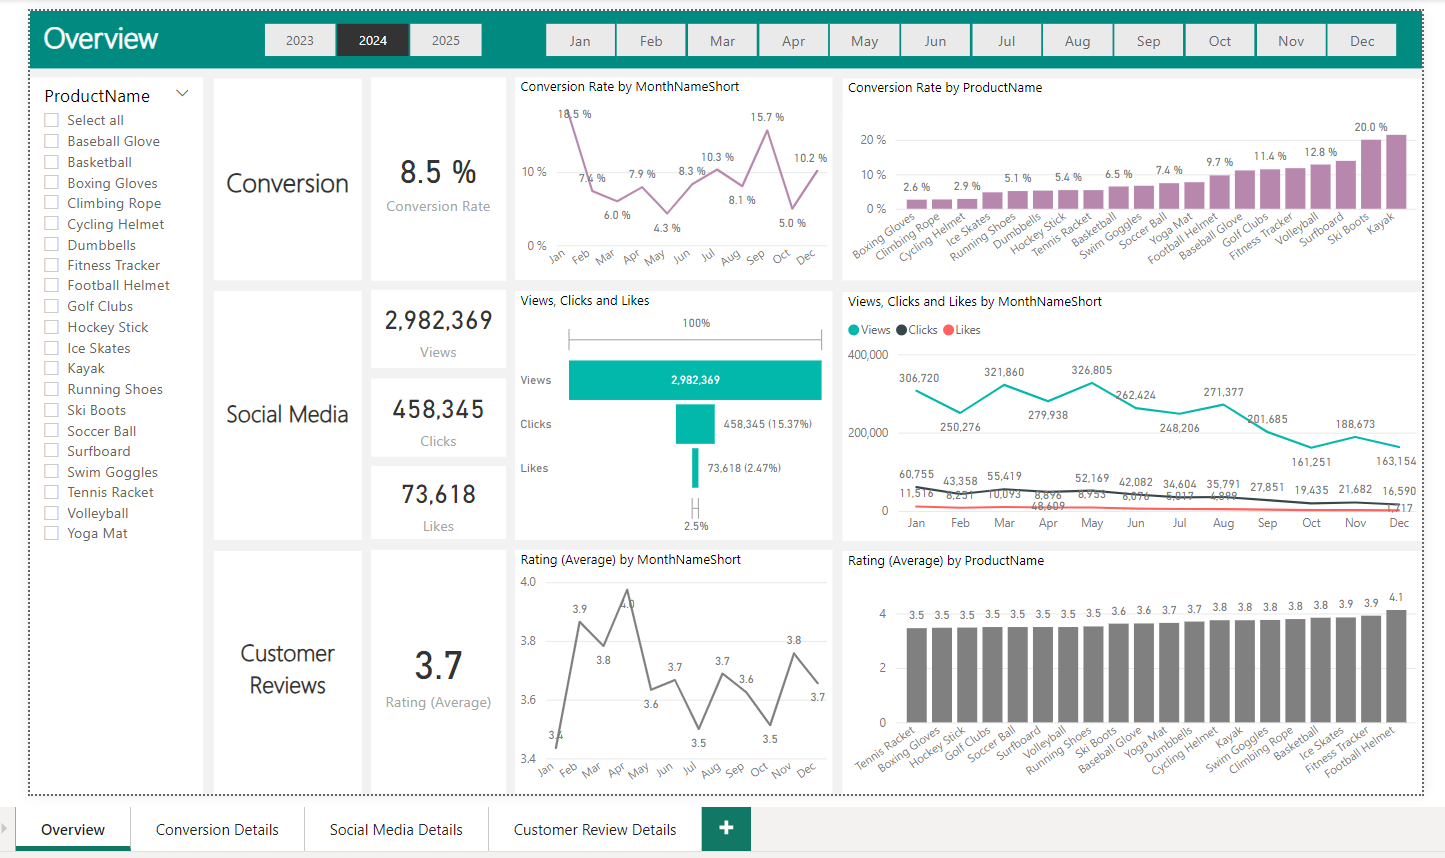

What the dashboard file says about the page in this screenshot:
{"tool":"powerbi","page":{"name":"Overview","canvas":[1280,720],"ordinal":0},"visuals":[{"type":"textbox","box":[0,0,1280,52.6],"z":0},{"type":"slicer","fields":{"Values":["dim_products.ProductName"]},"box":[0,61.1,159,659.1],"z":1000},{"type":"card","fields":{"Values":["_Calculations.Conversion Rate"]},"box":[313.4,61,123.9,186.8],"z":2000},{"type":"card","fields":{"Values":["_Calculations.Rating (Average)"]},"box":[313.4,495.5,123.9,224],"z":3000},{"type":"lineChart","fields":{"Y":["_Calculations.Conversion Rate"],"Category":["Calendar.MonthNameShort"]},"box":[446.4,60.9,292.3,186.7],"z":4000},{"type":"columnChart","fields":{"Category":["dim_products.ProductName"],"Y":["_Calculations.Conversion Rate"]},"box":[747.2,62.4,525.8,185.9],"z":5000},{"type":"slicer","fields":{"Values":["Calendar.Year"]},"box":[189.4,4.6,249.5,43.7],"z":6000},{"type":"slicer","fields":{"Values":["Calendar.MonthNameShort"]},"box":[448,4.6,832.3,43.7],"z":7000},{"type":"lineChart","fields":{"Y":["_Calculations.Views","_Calculations.Clicks","_Calculations.Likes"],"Category":["Calendar.MonthNameShort"]},"box":[747.2,258,525.8,228.7],"z":8000},{"type":"lineChart","fields":{"Category":["Calendar.MonthNameShort"],"Y":["_Calculations.Rating (Average)"]},"box":[446.4,495.3,292.3,224],"z":9000},{"type":"columnChart","fields":{"Category":["dim_products.ProductName"],"Y":["_Calculations.Rating (Average)"]},"box":[747.2,496.5,533.2,223.8],"z":10000},{"type":"funnel","fields":{"Y":["_Calculations.Views","_Calculations.Clicks","_Calculations.Likes"]},"box":[446.5,257.1,292.1,229.2],"z":11000},{"type":"card","fields":{"Values":["_Calculations.Views"]},"box":[313.4,256.7,123.8,71.9],"z":12000},{"type":"textbox","box":[168.8,62.4,135.7,185.9],"z":13000},{"type":"textbox","box":[168.8,258,135.7,228.7],"z":14000},{"type":"textbox","box":[168.8,496.5,135.7,223.8],"z":15000},{"type":"card","fields":{"Values":["_Calculations.Clicks"]},"box":[313.4,337.8,123.8,71.9],"z":16000},{"type":"card","fields":{"Values":["_Calculations.Likes"]},"box":[313.4,418.8,123.8,67.4],"z":17000}]}

Visuals, with their boxes on the page's 1280x720 design canvas (x1, y1, x2, y2). These are canvas units, not pixel positions in the 1445x858 screenshot, which may show the page scaled, cropped or inside an application window:
textbox: 0/0/1280/53
slicer - dim_products.ProductName: 0/61/159/720
card - _Calculations.Conversion Rate: 313/61/437/248
card - _Calculations.Rating (Average): 313/496/437/720
lineChart - _Calculations.Conversion Rate x Calendar.MonthNameShort: 446/61/739/248
columnChart - dim_products.ProductName x _Calculations.Conversion Rate: 747/62/1273/248
slicer - Calendar.Year: 189/5/439/48
slicer - Calendar.MonthNameShort: 448/5/1280/48
lineChart - _Calculations.Views x _Calculations.Clicks: 747/258/1273/487
lineChart - Calendar.MonthNameShort x _Calculations.Rating (Average): 446/495/739/719
columnChart - dim_products.ProductName x _Calculations.Rating (Average): 747/496/1280/720
funnel - _Calculations.Views x _Calculations.Clicks: 446/257/739/486
card - _Calculations.Views: 313/257/437/329
textbox: 169/62/304/248
textbox: 169/258/304/487
textbox: 169/496/304/720
card - _Calculations.Clicks: 313/338/437/410
card - _Calculations.Likes: 313/419/437/486
